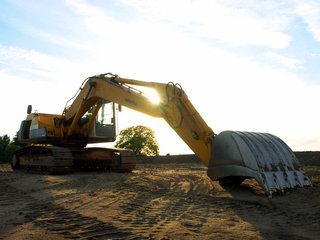excavator: (9, 62, 310, 199)
